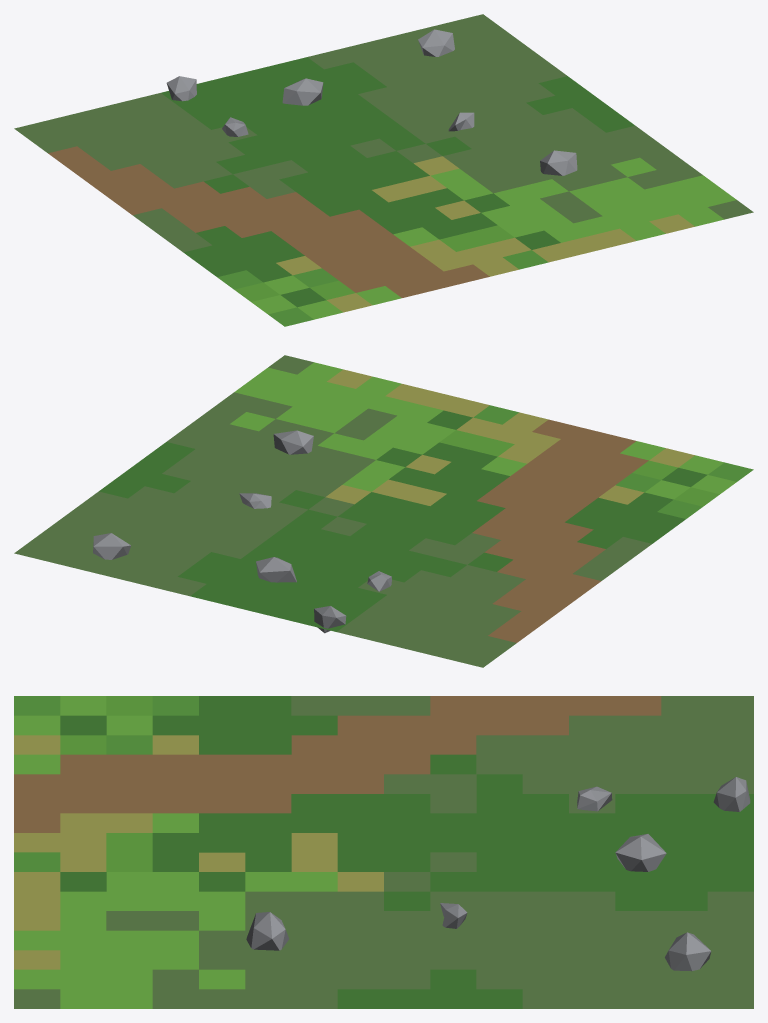
The model's file is chunk_8_3.glb.
3 views of the same model, one above another, from view 1: azimuth 30°, elevation 25°; view 2: azimuth 150°, elevation 25°; view 3: azimuth 270°, elevation 25° (orthographic). The views are drawn at different scales.
Parts seen in each view (by area): view 1: chunk_8_3; view 2: chunk_8_3; view 3: chunk_8_3.
Part boxes in pixels (box(x1,y1,x2,y2)): chunk_8_3: box(14, 14, 753, 326); chunk_8_3: box(14, 355, 753, 667); chunk_8_3: box(14, 696, 753, 1008).
Size of the model in its own units: 16 by 1.04 by 16.
